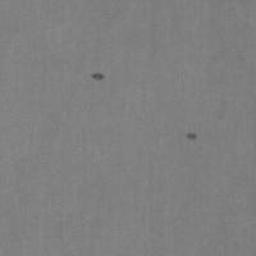Inclusion: (91, 72, 105, 81), (186, 132, 198, 141)
